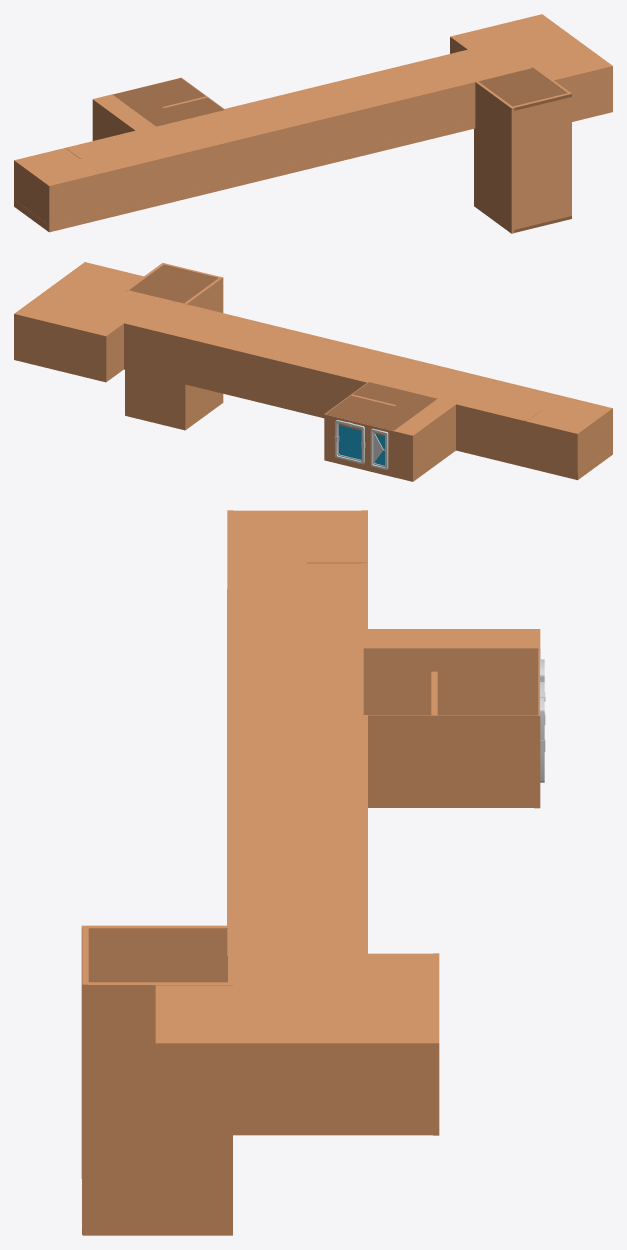
The model's file is EntornoBase.fbx.
3 views of the same model, one above another, from view 1: azimuth 30°, elevation 25°; view 2: azimuth 150°, elevation 25°; view 3: azimuth 270°, elevation 25° (orthographic). The views are drawn at different scales.
Visible parts, largest first — view 1: Techo, Pared10, Pared1, Pared2, Suelo2, TechoH, Pared5, Techo2, ParedH1, Pared11, Pared6, Pared9; view 2: Techo, Pared9, Pared7, ParedH1, TechoH, Pared4, Techo2, Pared2, ParedH2, Pared11, Pared10, Pared6 (+5 smaller); view 3: Techo, Pared6, Pared3, ParedH3, TechoH, Techo2, ParedH1, Pared10, Pared9, Pared1, Pared2.
Part boxes in pixels (x1=…): Techo: x1=18, y1=17, x2=598, y2=184; Pared10: x1=47, y1=73, x2=505, y2=225; Pared1: x1=513, y1=92, x2=571, y2=232; Pared2: x1=474, y1=81, x2=514, y2=233; Suelo2: x1=14, y1=121, x2=475, y2=232; TechoH: x1=113, y1=78, x2=224, y2=126; Pared5: x1=554, y1=66, x2=612, y2=121; Techo2: x1=478, y1=68, x2=571, y2=110; ParedH1: x1=92, y1=94, x2=157, y2=140; Pared11: x1=15, y1=161, x2=49, y2=223; Pared6: x1=529, y1=14, x2=612, y2=68; Pared9: x1=14, y1=49, x2=471, y2=200; Techo: x1=28, y1=265, x2=607, y2=431; Pared9: x1=122, y1=321, x2=579, y2=479; Pared7: x1=14, y1=314, x2=107, y2=382; ParedH1: x1=392, y1=398, x2=456, y2=481; TechoH: x1=326, y1=382, x2=437, y2=430; Pared4: x1=125, y1=370, x2=184, y2=430; Techo2: x1=129, y1=265, x2=218, y2=303; Pared2: x1=184, y1=276, x2=223, y2=430; ParedH2: x1=327, y1=414, x2=392, y2=476; Pared11: x1=577, y1=408, x2=611, y2=471; Pared10: x1=155, y1=297, x2=612, y2=448; Pared6: x1=14, y1=262, x2=97, y2=316; Techo: x1=157, y1=512, x2=437, y2=1029; Pared6: x1=156, y1=1030, x2=438, y2=1135; Pared3: x1=83, y1=982, x2=232, y2=1235; ParedH3: x1=368, y1=713, x2=540, y2=807; TechoH: x1=363, y1=648, x2=538, y2=715; Techo2: x1=88, y1=929, x2=227, y2=982; ParedH1: x1=362, y1=629, x2=540, y2=658; Pared10: x1=227, y1=510, x2=233, y2=955; Pared9: x1=361, y1=510, x2=367, y2=955; Pared1: x1=82, y1=928, x2=88, y2=1235; Pared2: x1=81, y1=925, x2=227, y2=1178.
Size of the model in its own units: 3998 by 878 by 1470.
